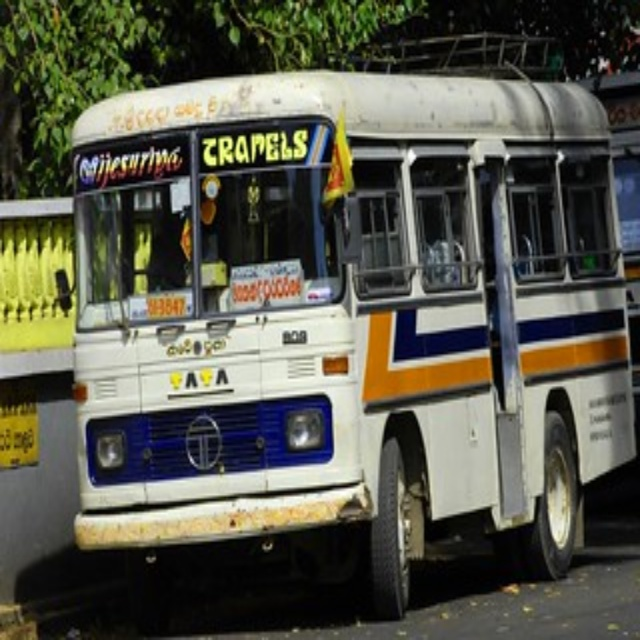Bus: (66, 67, 640, 621)
